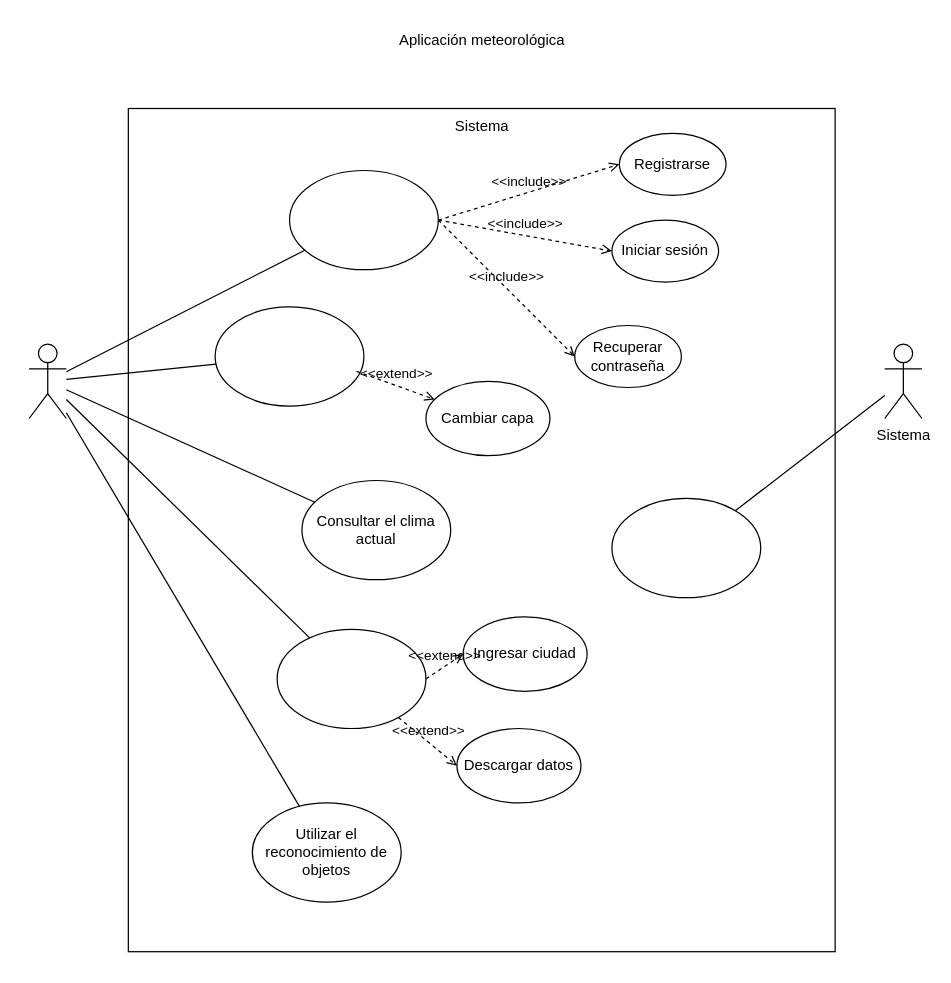
Image size: 951x983. Some labels were removed from this diagram. Here are the shapes that lost their labels. From the top down, the box of each, then its label:
(288, 169, 438, 270): Autenticarse
(214, 306, 364, 406): Visualizar mapa con ubicación actual
(28, 343, 66, 418): Jugador
(611, 497, 761, 598): Actualizar datos meteorológicos
(276, 628, 426, 728): Visualizar historial climático
